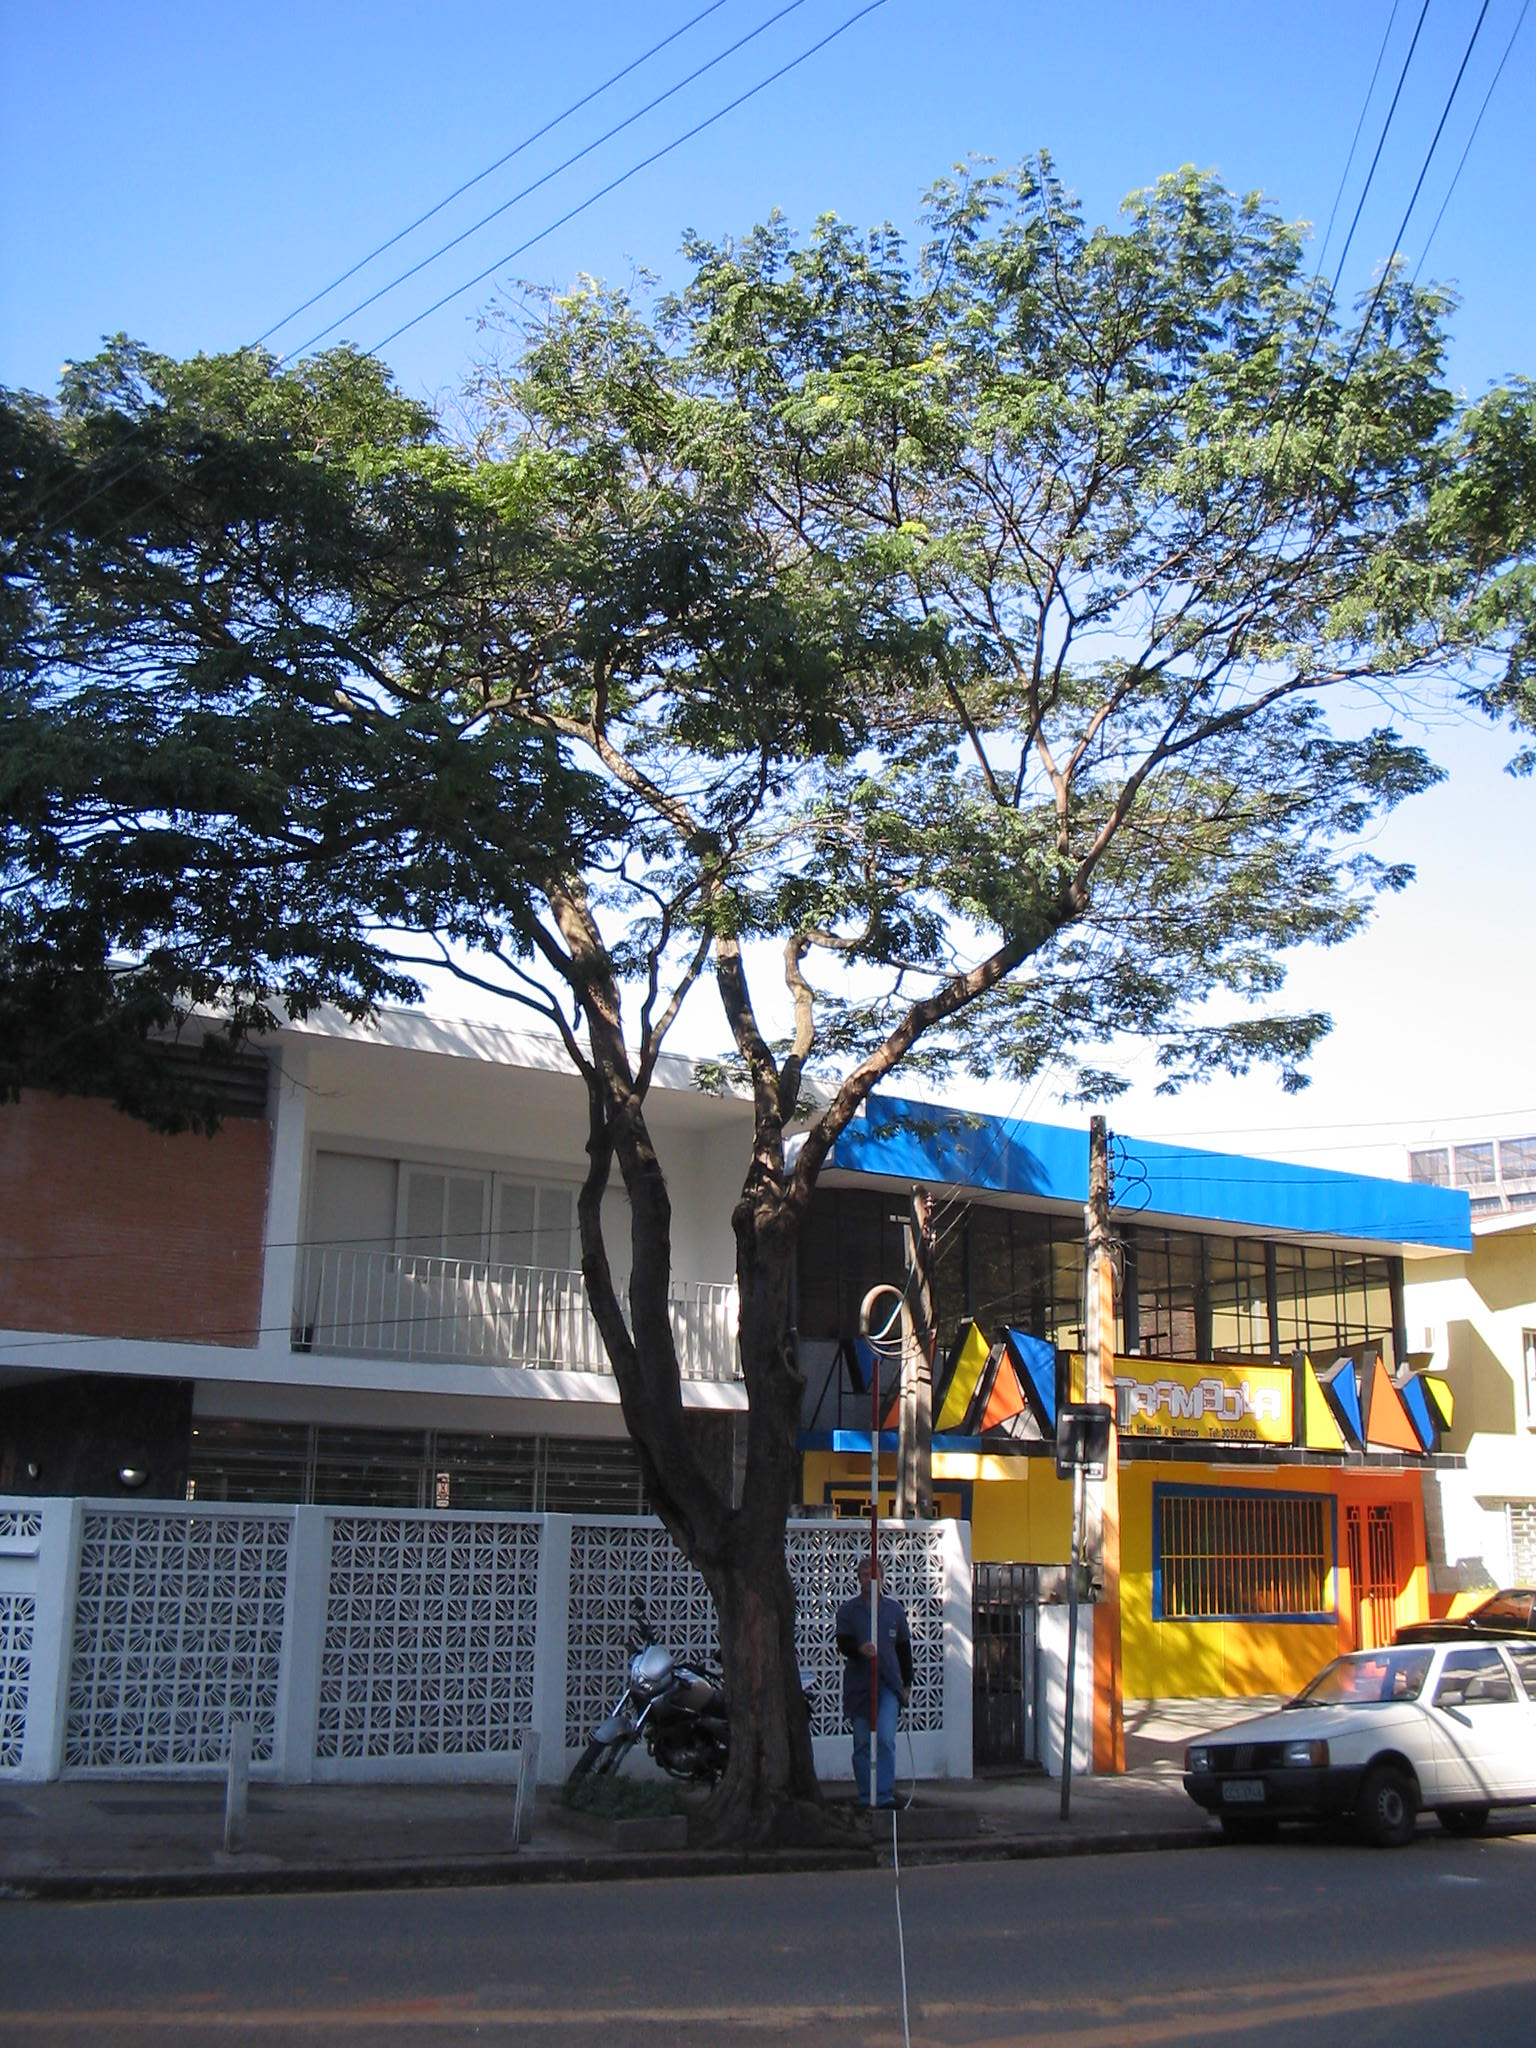crown: (6, 142, 1512, 1179)
stem: (637, 1511, 850, 1846)
stick: (831, 1361, 916, 1813)
tree: (2, 150, 1521, 1867)
